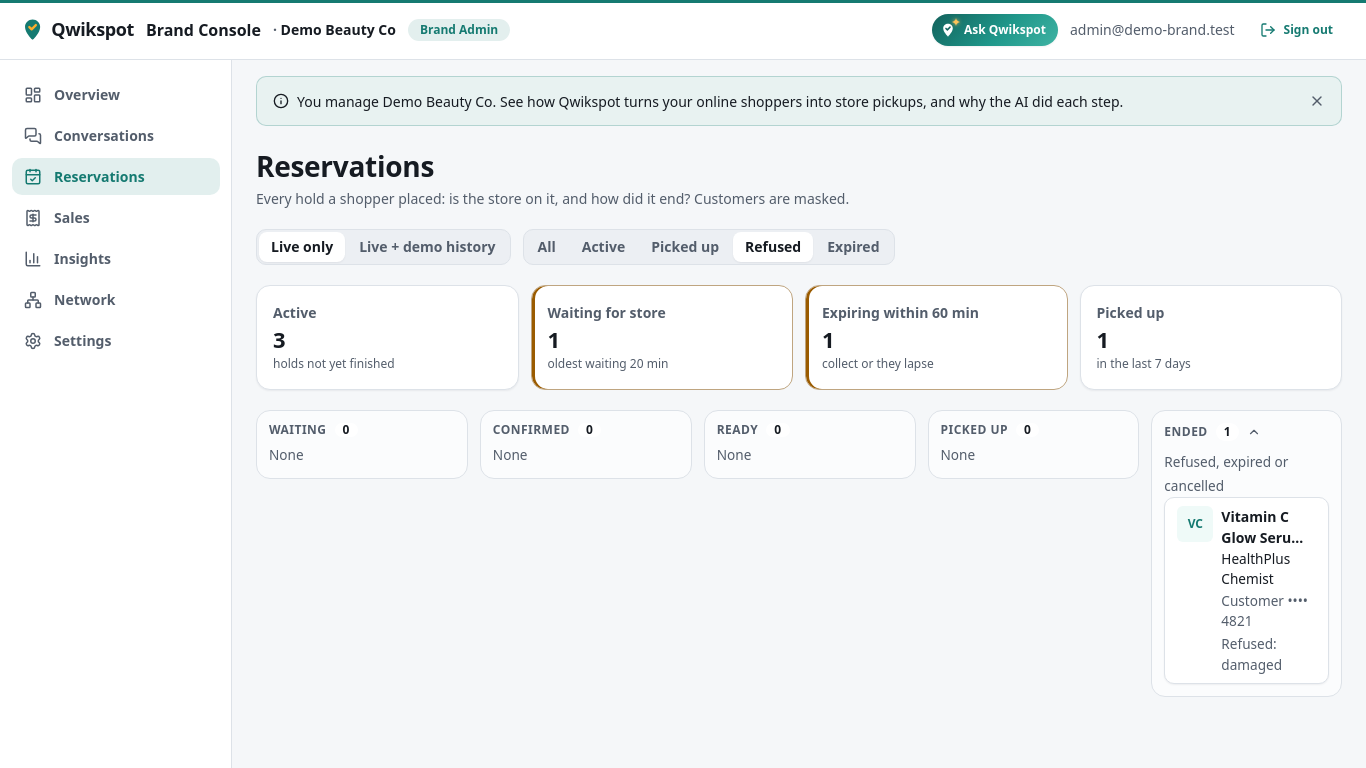
Test: UI-P3 — Reservations board, Insights, Settings › a card opens the drawer with its timeline; generated history has no conversation link
What coordinates should you click on to do the following:
click the button "Customer •••• 4821"
I would click on:
 (1247, 590)
Its box is [1164, 497, 1329, 684].
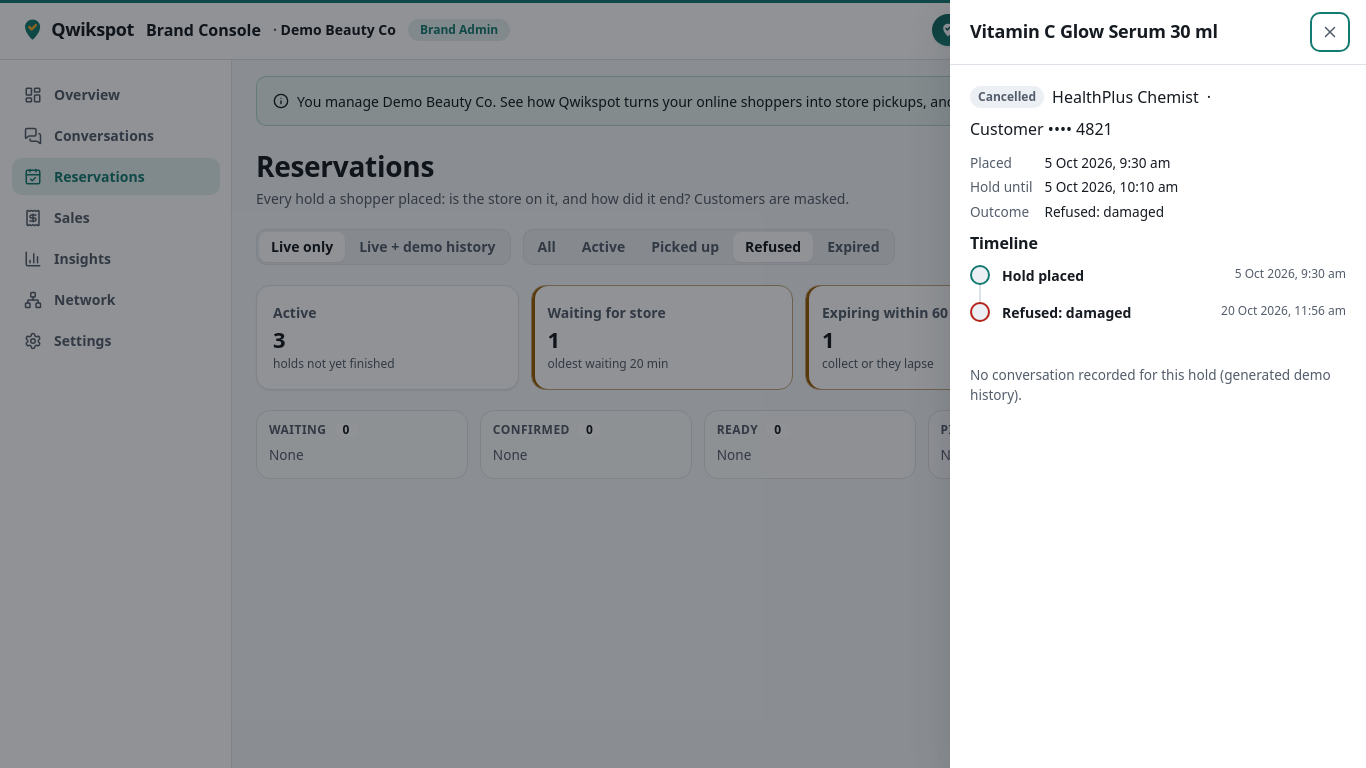
Check: the text "Refused: damaged" is shown, box [1044, 202, 1164, 221]
Check: the list named "Hold timeline" shows "Refused: damaged", box [1002, 303, 1131, 322]
Check: the text "No conversation recorded for this hold" is shown, box [970, 365, 1331, 404]
